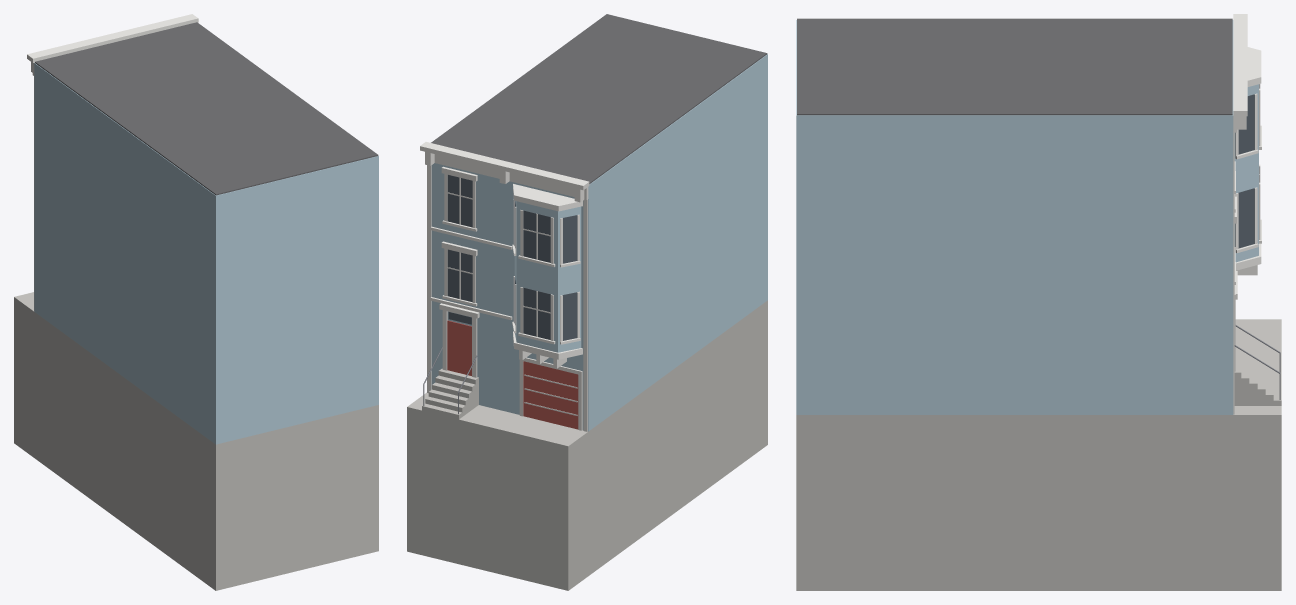
Rendered from house_victorian.glb.
The picture shows the model from 3 angles, left to right: view 1: azimuth 30°, elevation 25°; view 2: azimuth 150°, elevation 25°; view 3: azimuth 270°, elevation 25°; orthographic projection. The views are drawn at different scales.
Parts seen in each view (by area): view 1: Walls, Base, Roof, Trim; view 2: Walls, Base, Roof, Trim, Glass, Accent; view 3: Walls, Base, Roof, Trim, Glass.
Boxes of the visible parts, box(x1,y1,x2,y2) form: Walls: box(34, 63, 378, 444); Base: box(14, 292, 378, 590); Roof: box(35, 22, 378, 195); Trim: box(27, 14, 198, 310); Walls: box(431, 54, 767, 431); Base: box(407, 300, 767, 590); Roof: box(431, 14, 767, 184); Trim: box(420, 142, 589, 431); Glass: box(447, 175, 577, 340); Accent: box(447, 320, 578, 429); Walls: box(796, 20, 1258, 414); Base: box(796, 319, 1281, 590); Roof: box(797, 18, 1232, 115); Trim: box(1233, 14, 1261, 414); Glass: box(1238, 84, 1259, 248).
Bounding box in the file's own units: 7.1 × 16.38 × 15.
